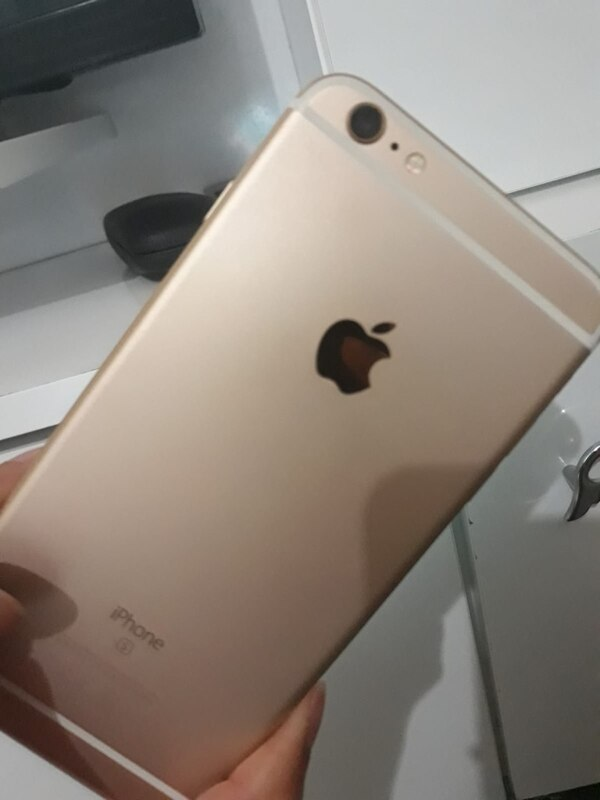apple: (297, 302, 422, 400)
